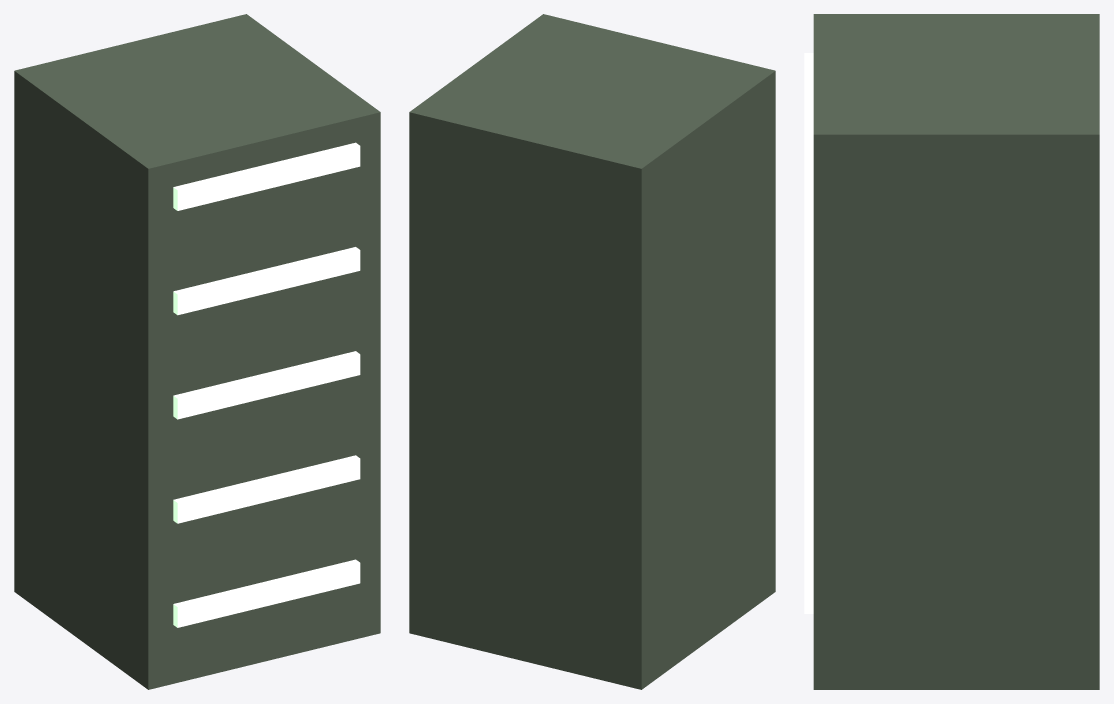
Rendered from server.glb.
3 views of the same model, side by side, from view 1: azimuth 30°, elevation 25°; view 2: azimuth 150°, elevation 25°; view 3: azimuth 270°, elevation 25° (orthographic). The views are drawn at different scales.
Parts seen in each view (by area): view 1: SB_ServerBody, SB_ServerLed1, SB_ServerLed2, SB_ServerLed0, SB_ServerLed3, SB_ServerLed4; view 2: SB_ServerBody; view 3: SB_ServerBody, SB_ServerLed4, SB_ServerLed0, SB_ServerLed1, SB_ServerLed2, SB_ServerLed3.
Part boxes in pixels (box(x1,y1,x2,y2)): SB_ServerBody: box(14, 14, 380, 689); SB_ServerLed1: box(173, 455, 360, 523); SB_ServerLed2: box(173, 351, 360, 419); SB_ServerLed0: box(173, 559, 360, 627); SB_ServerLed3: box(173, 247, 360, 315); SB_ServerLed4: box(173, 142, 360, 210); SB_ServerBody: box(409, 14, 775, 689); SB_ServerBody: box(813, 14, 1099, 689); SB_ServerLed4: box(804, 53, 813, 169); SB_ServerLed0: box(804, 503, 813, 613); SB_ServerLed1: box(804, 392, 813, 502); SB_ServerLed2: box(804, 281, 813, 391); SB_ServerLed3: box(804, 170, 813, 280).
Bounding box in the file's own units: 1.4 × 3 × 1.45.
